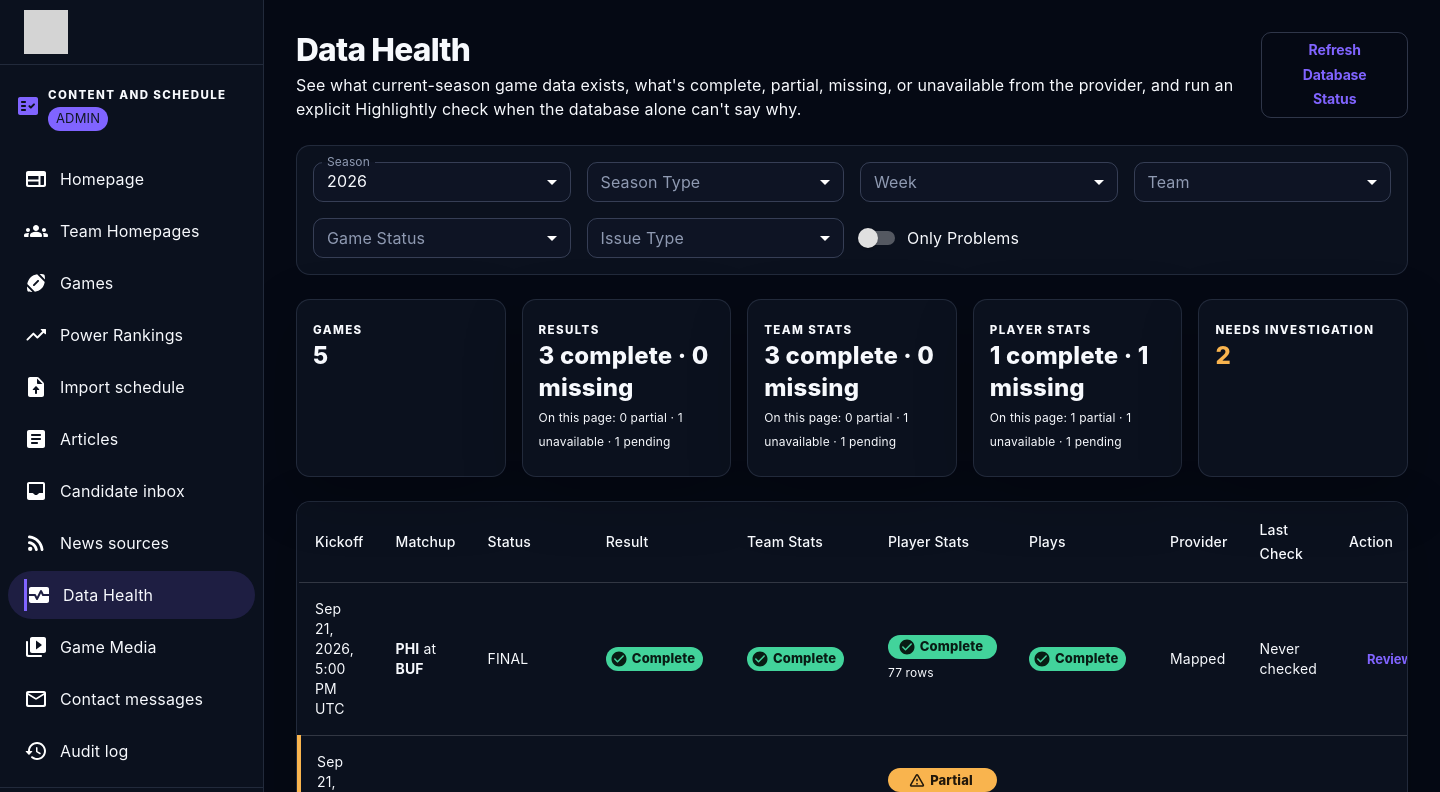
Test case: Admin Data Health › runs a probe for ADMIN and shows the fresh explanation text and quota
The image size is (1440, 792).
Expected: the heading "Data Health" is shown, [296,30,470,69]
Click the button "Review" in the row of "77 rows". click: click(1390, 659)
box: [1349,638,1430,680]
(page scrolled)
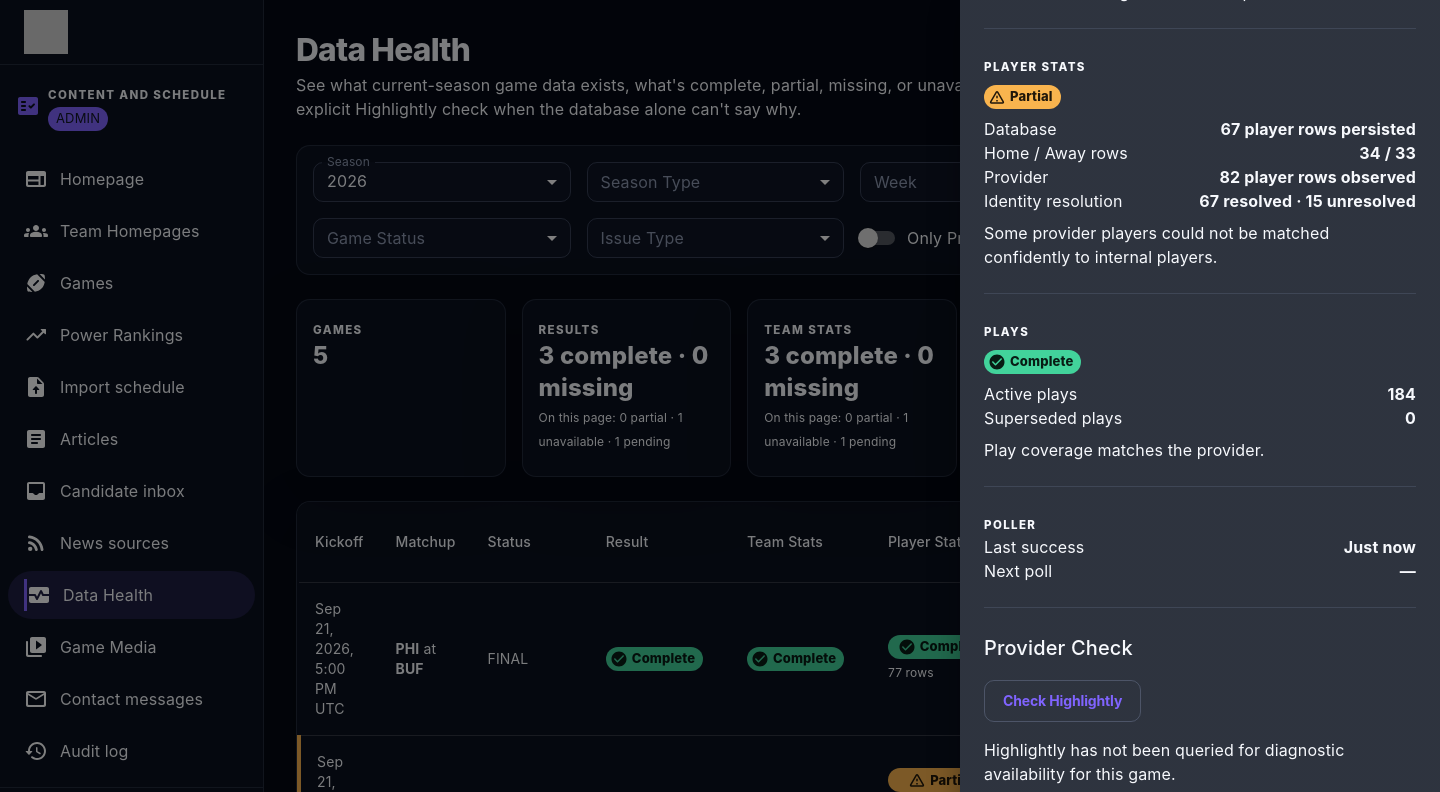
Now the button "Check Highlightly" is enabled
Click the button "Check Highlightly". click: click(1063, 701)
box: [984,680,1141,722]
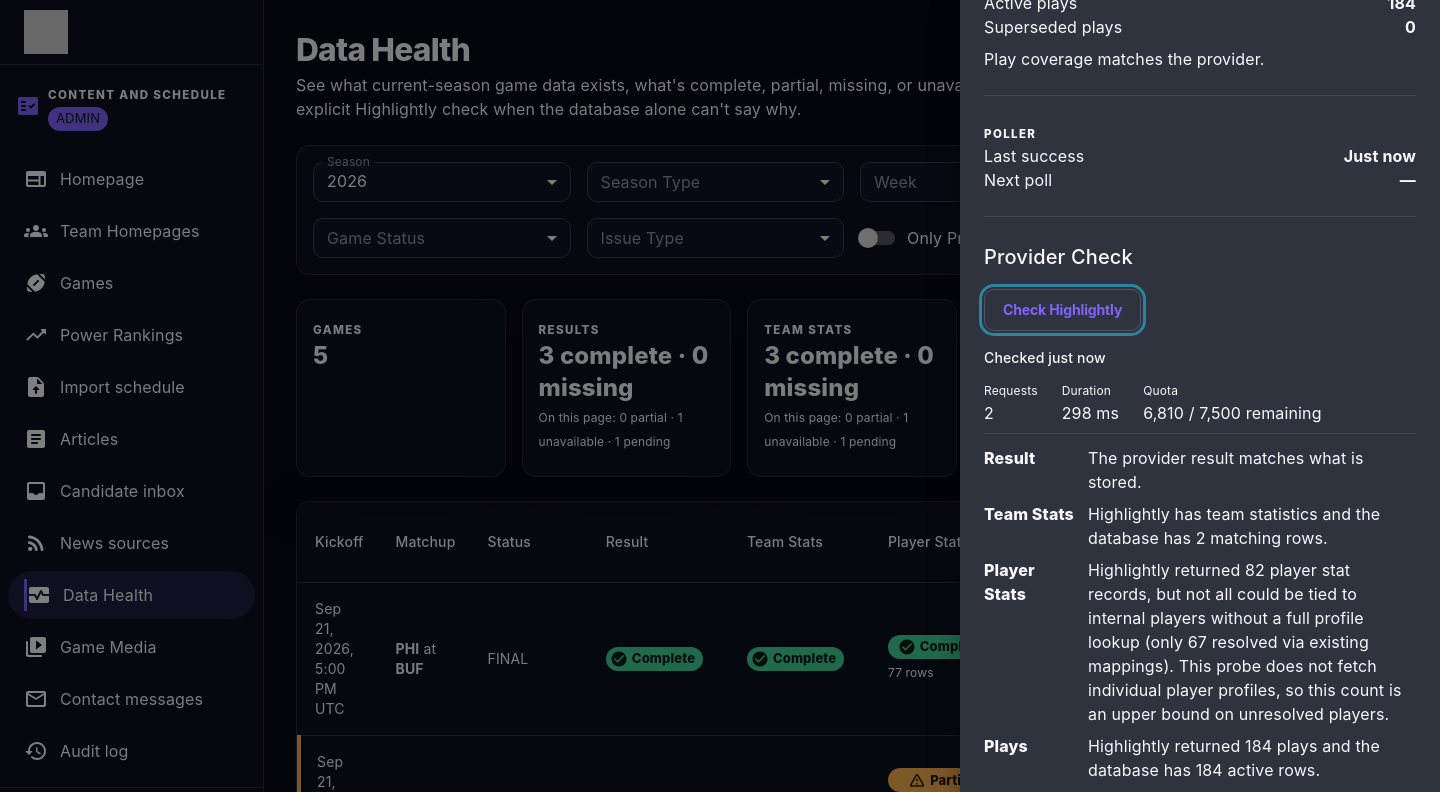
Now the text "Highlightly returned 82 player stat records, but not all could be tied to internal players without a full profile lookup" is shown, box [1088,560,1402,724]
Now the text "6,810 / 7,500 remaining" is shown, box [1143,401,1322,425]
